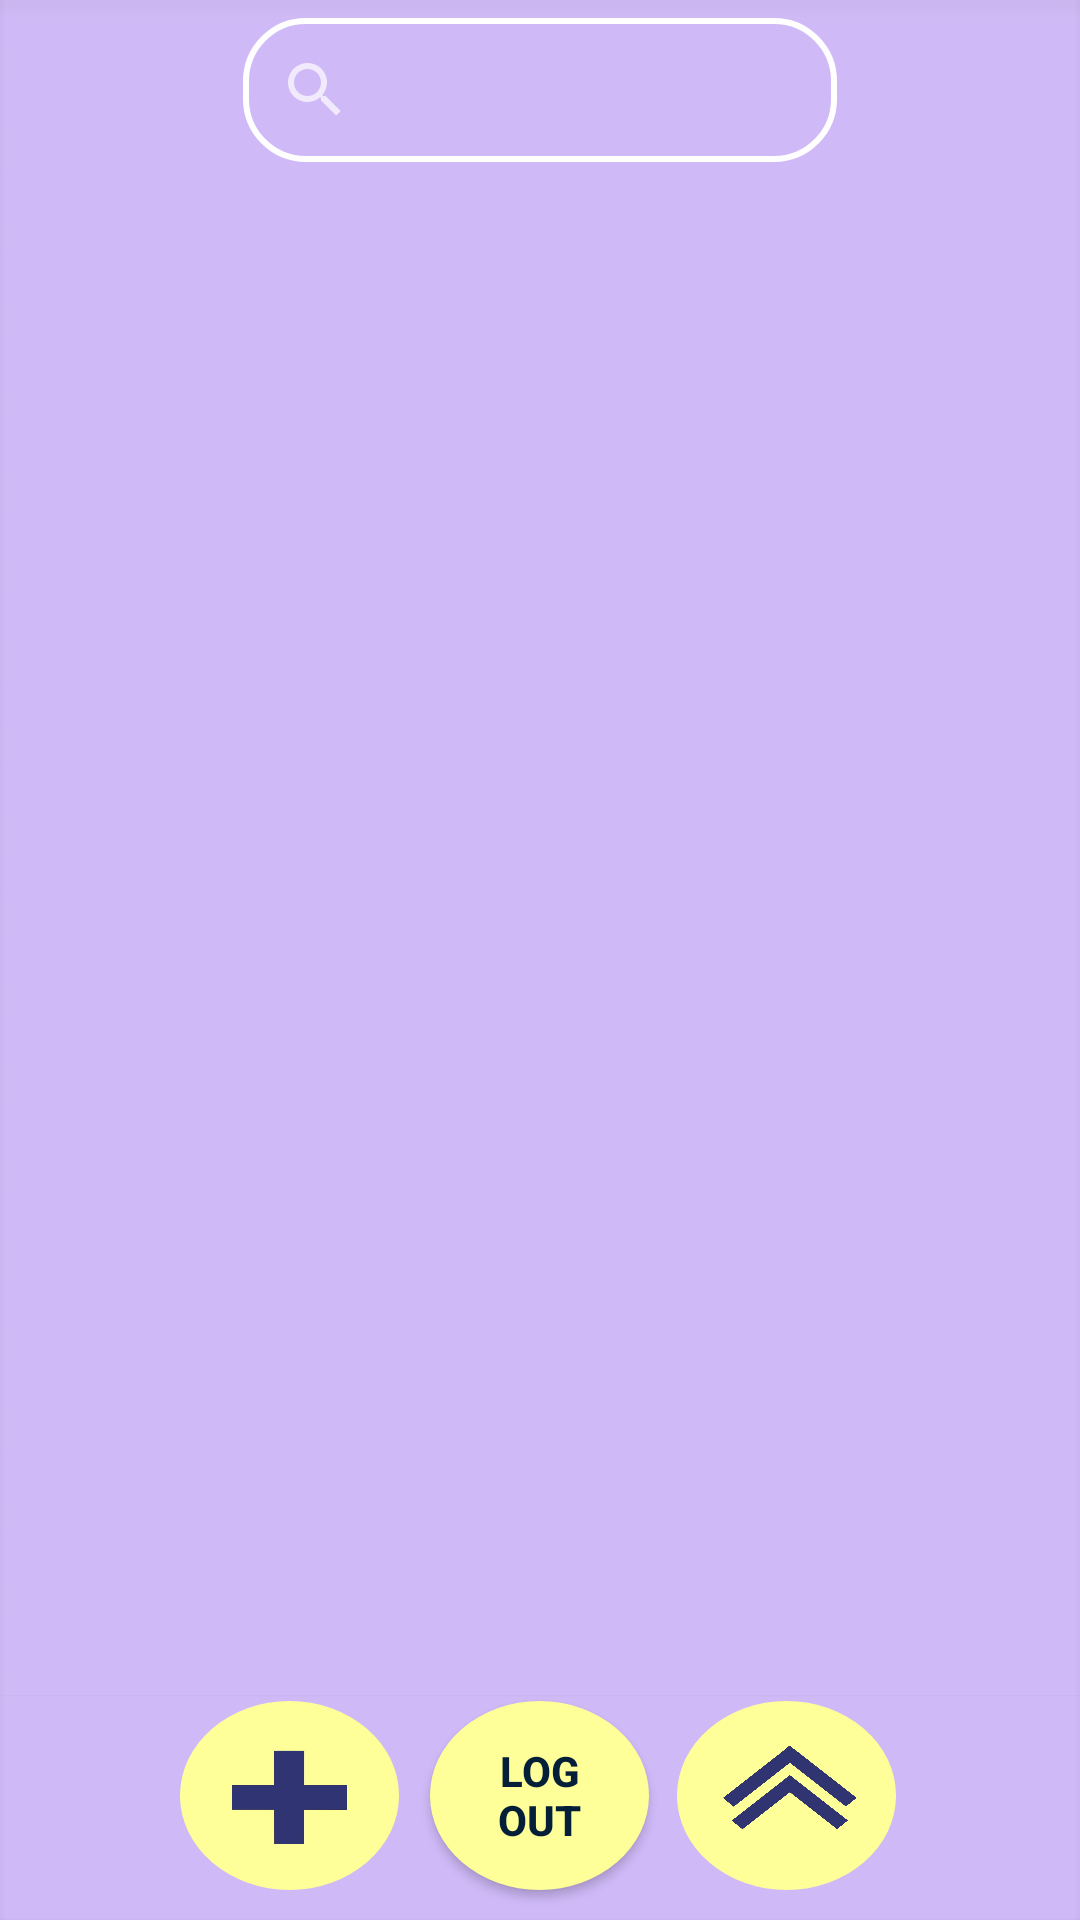

Icons on this 1080x1920 Android screen, each with its box as BBox(x1, y1, x2, y2):
claires add: BBox(180, 1701, 399, 1890)
claires scrollup: BBox(677, 1701, 896, 1890)
